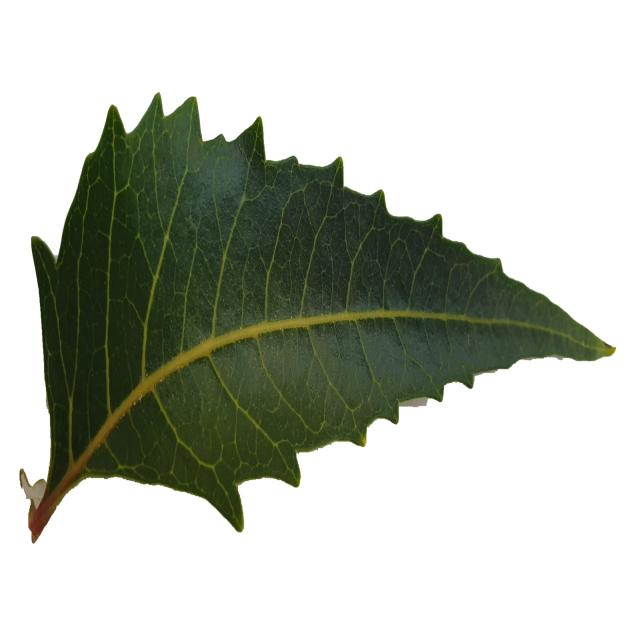Medicinal-Neem: (26, 86, 616, 545)
